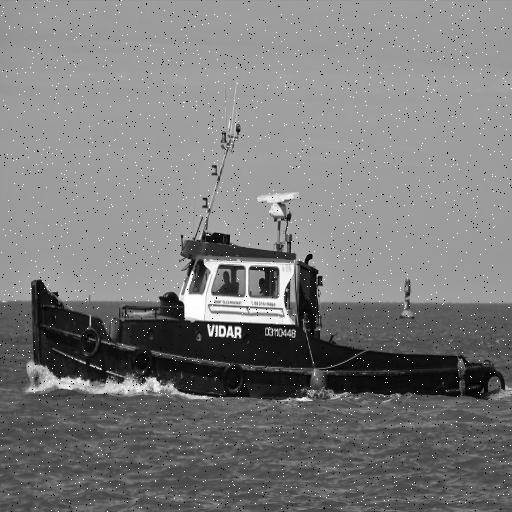tugboat: (26, 74, 510, 413)
